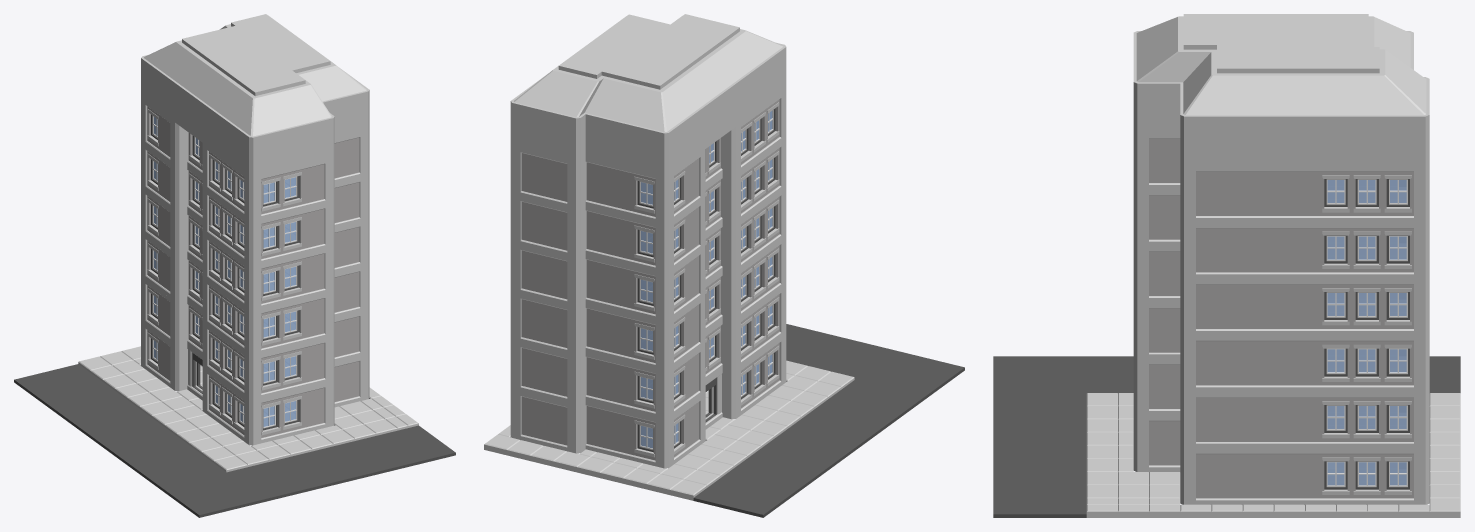
File: ponnu-skyline.glb
The picture shows the model from 3 angles, left to right: view 1: azimuth 30°, elevation 25°; view 2: azimuth 150°, elevation 25°; view 3: azimuth 270°, elevation 25°; orthographic projection. The views are drawn at different scales.
Visible parts, largest first — view 1: Mesh743_Polished_Concrete_Old_0, Mesh461_Blacktop_New_0, Mesh625_Blacktop_New_0, Mesh452_Blacktop_New_0, Mesh453_Blacktop_New_0, Mesh463_Blacktop_New_0, Mesh464_Blacktop_New_0, Mesh462_Blacktop_New_0, Mesh465_Blacktop_New_0, Mesh251_Polished_Concrete_Old_0, Mesh236_Polished_Concrete_Old_0, Mesh645_Polished_Concrete_Old_0 (+21 smaller); view 2: Mesh743_Polished_Concrete_Old_0, Mesh465_Blacktop_New_0, Mesh463_Blacktop_New_0, Mesh464_Blacktop_New_0, Mesh461_Blacktop_New_0, Mesh462_Blacktop_New_0, Mesh452_Blacktop_New_0, Mesh182_Polished_Concrete_Old_0, Mesh211_Polished_Concrete_Old_0, Mesh273_Polished_Concrete_Old_0, Mesh582_Polished_Concrete_Old_0, Mesh162_Polished_Concrete_Old_0 (+44 smaller); view 3: Mesh743_Polished_Concrete_Old_0, Mesh625_Blacktop_New_0, Mesh452_Blacktop_New_0, Mesh453_Blacktop_New_0, Mesh461_Blacktop_New_0, Mesh462_Blacktop_New_0, Mesh325_Brick_Tumbled_0, Mesh585_Brick_Tumbled_0, Mesh66_Brick_Tumbled_0, Mesh72_Brick_Tumbled_0, Mesh301_Brick_Tumbled_0, Mesh305_Brick_Tumbled_0 (+80 smaller).
Part boxes in pixels (x1,y1,x2,y2): Mesh743_Polished_Concrete_Old_0: [141, 14, 369, 176]; Mesh461_Blacktop_New_0: [162, 472, 263, 517]; Mesh625_Blacktop_New_0: [355, 425, 455, 470]; Mesh452_Blacktop_New_0: [226, 457, 327, 502]; Mesh453_Blacktop_New_0: [291, 441, 391, 486]; Mesh463_Blacktop_New_0: [88, 418, 188, 463]; Mesh464_Blacktop_New_0: [51, 391, 151, 436]; Mesh462_Blacktop_New_0: [125, 445, 225, 490]; Mesh465_Blacktop_New_0: [14, 364, 114, 408]; Mesh251_Polished_Concrete_Old_0: [244, 218, 261, 266]; Mesh236_Polished_Concrete_Old_0: [170, 164, 187, 212]; Mesh645_Polished_Concrete_Old_0: [170, 298, 187, 346]; Mesh743_Polished_Concrete_Old_0: [510, 14, 786, 176]; Mesh465_Blacktop_New_0: [693, 468, 803, 517]; Mesh463_Blacktop_New_0: [774, 409, 884, 458]; Mesh464_Blacktop_New_0: [734, 439, 843, 487]; Mesh461_Blacktop_New_0: [855, 350, 964, 399]; Mesh462_Blacktop_New_0: [815, 380, 924, 428]; Mesh452_Blacktop_New_0: [788, 333, 894, 379]; Mesh182_Polished_Concrete_Old_0: [655, 270, 673, 322]; Mesh211_Polished_Concrete_Old_0: [567, 255, 585, 307]; Mesh273_Polished_Concrete_Old_0: [722, 172, 740, 224]; Mesh582_Polished_Concrete_Old_0: [567, 304, 585, 356]; Mesh162_Polished_Concrete_Old_0: [722, 221, 740, 273]; Mesh743_Polished_Concrete_Old_0: [1133, 14, 1429, 166]; Mesh625_Blacktop_New_0: [993, 475, 1086, 517]; Mesh452_Blacktop_New_0: [993, 396, 1086, 435]; Mesh453_Blacktop_New_0: [993, 435, 1086, 474]; Mesh461_Blacktop_New_0: [993, 356, 1086, 395]; Mesh462_Blacktop_New_0: [1086, 356, 1133, 392]; Mesh325_Brick_Tumbled_0: [1149, 195, 1180, 239]; Mesh585_Brick_Tumbled_0: [1149, 308, 1180, 352]; Mesh66_Brick_Tumbled_0: [1258, 454, 1289, 498]; Mesh72_Brick_Tumbled_0: [1289, 454, 1320, 498]; Mesh301_Brick_Tumbled_0: [1289, 228, 1320, 272]; Mesh305_Brick_Tumbled_0: [1258, 228, 1289, 272].
Bounding box in the file's own units: 6.64 × 8.36 × 8.3.
